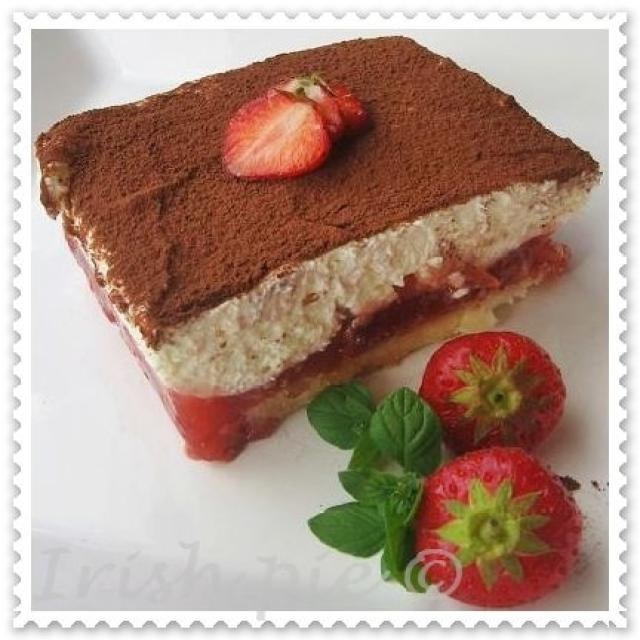蛋糕甜品: (31, 32, 613, 620)
